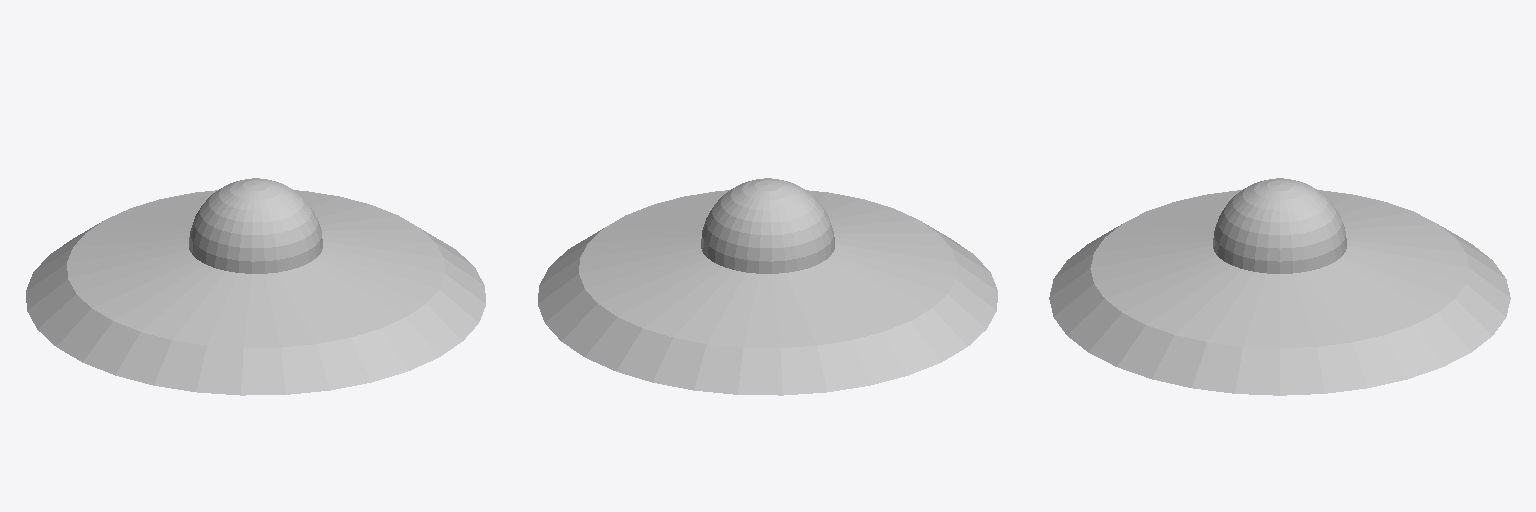
Rendered from player.obj.
3 renders of one model, left to right at view 1: azimuth 30°, elevation 25°; view 2: azimuth 150°, elevation 25°; view 3: azimuth 270°, elevation 25°, orthographic.
Visible parts, largest first — view 1: Sphere; view 2: Sphere; view 3: Sphere.
Part boxes in pixels (x1,y1,x2,y2): Sphere: (26,178,485,395); Sphere: (538,178,997,395); Sphere: (1049,178,1510,395).
Size of the model in its own units: 5.14 by 1.76 by 5.14.